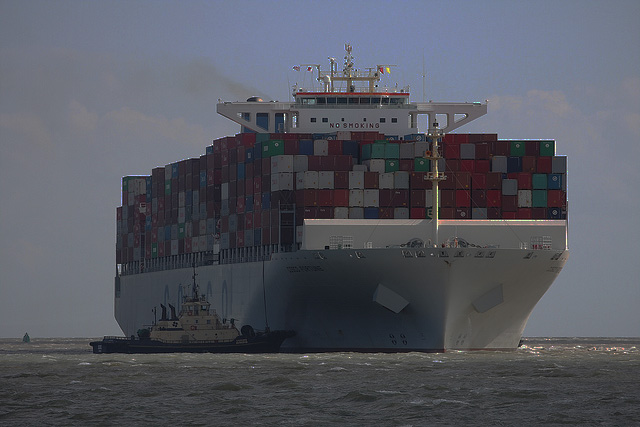container_ship: (109, 45, 570, 346)
tug_boat: (95, 271, 287, 355)
